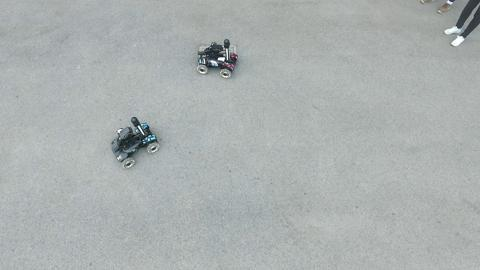chariot: (110, 119, 161, 171), (196, 37, 243, 78)
